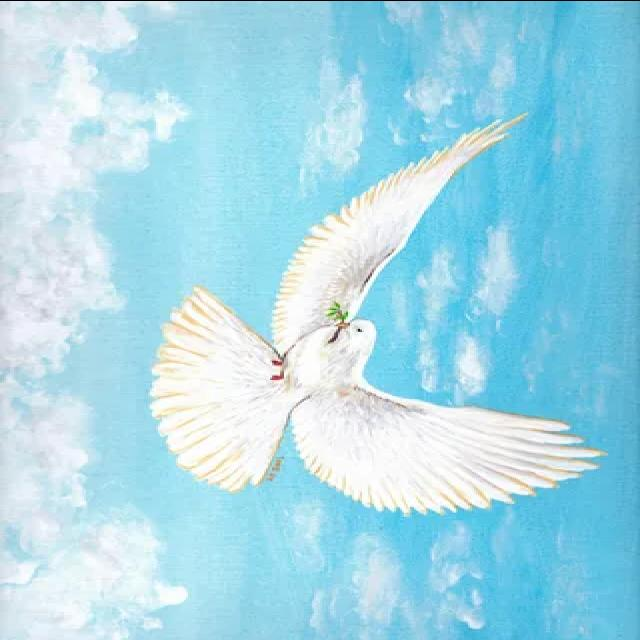pigeon: (148, 108, 604, 520)
